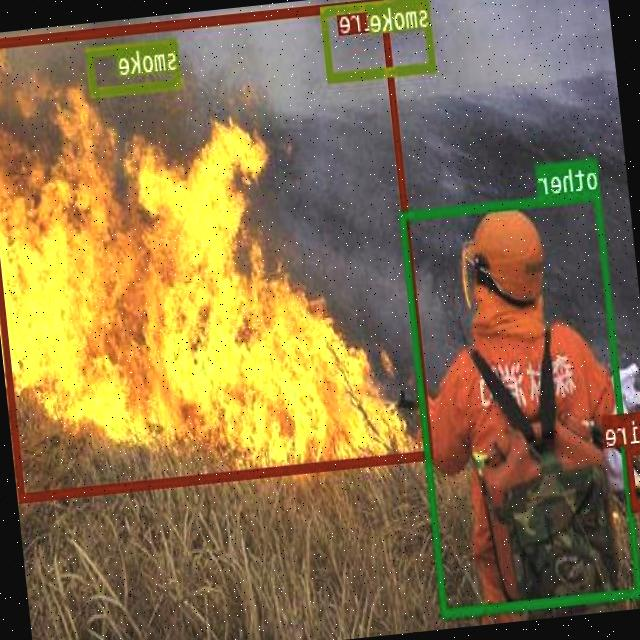fire: (0, 0, 435, 501), (625, 440, 640, 508)
smoke: (321, 0, 436, 81), (86, 37, 183, 94)
